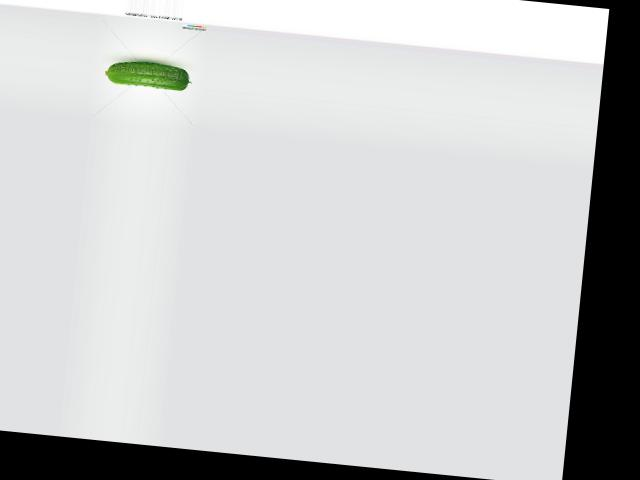cucumber: (103, 58, 193, 91)
